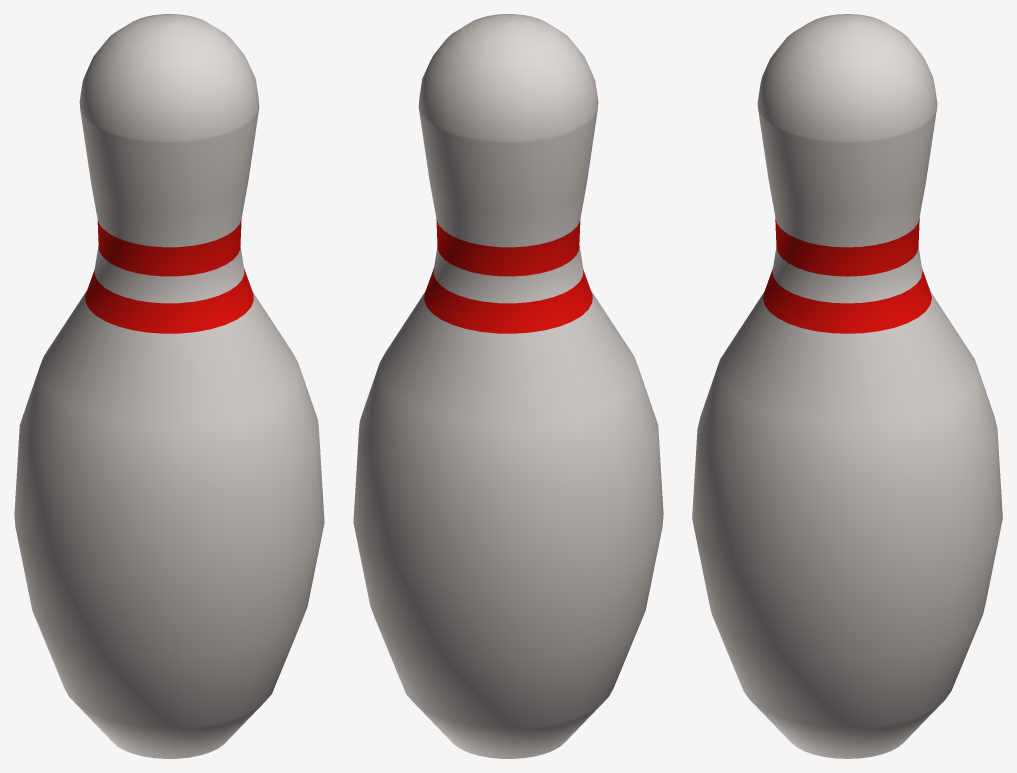
Rendered from Bowling_Pin(v2.1).fbx.
3 views of the same model, side by side, from view 1: azimuth 30°, elevation 25°; view 2: azimuth 150°, elevation 25°; view 3: azimuth 270°, elevation 25° (orthographic).
Parts seen in each view (by area): view 1: Cylinder; view 2: Cylinder; view 3: Cylinder.
Boxes of the visible parts, <box> form: Cylinder: <box>14,14,324,758</box>; Cylinder: <box>353,14,663,758</box>; Cylinder: <box>692,14,1002,758</box>.
Size of the model in its own units: 42.08 by 106 by 42.08.
